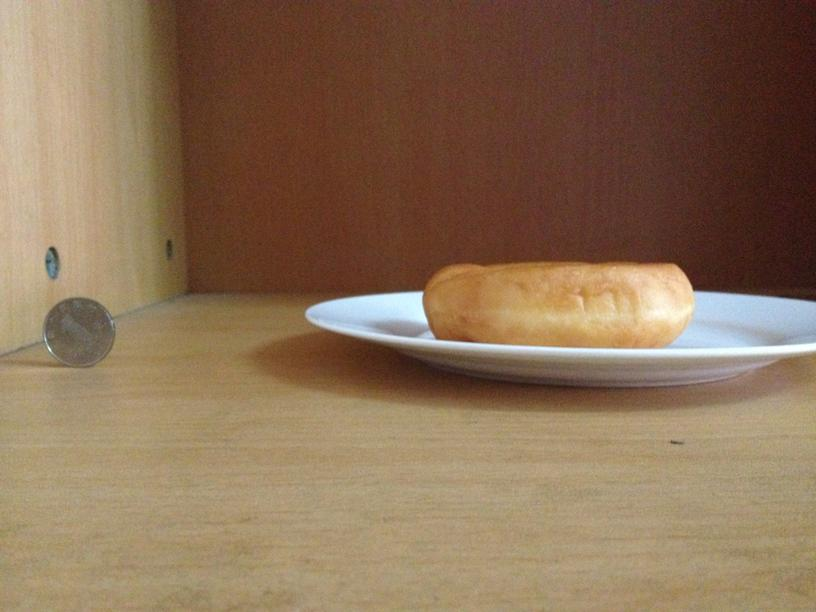coin: (44, 297, 114, 369)
doughnut: (422, 261, 692, 347)
